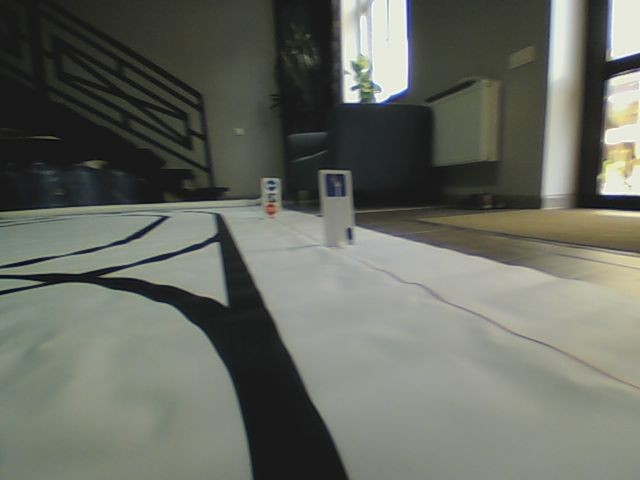priority_movement: (324, 172, 348, 200)
